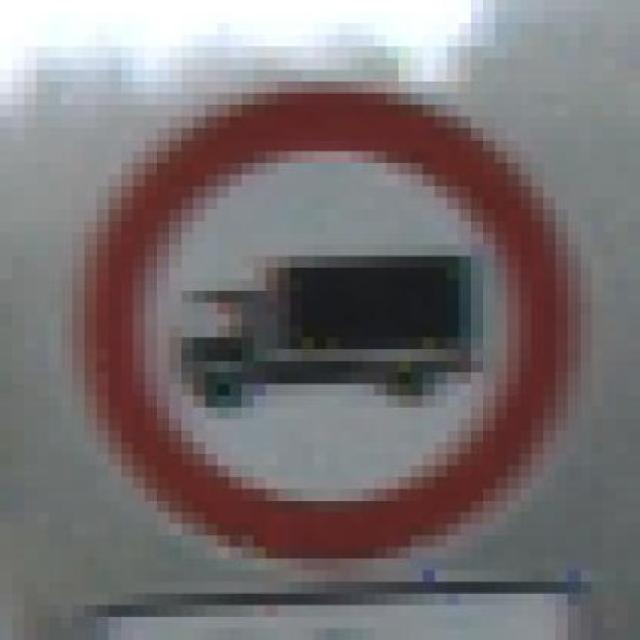Truck traffic is prohibited: (72, 82, 605, 570)
